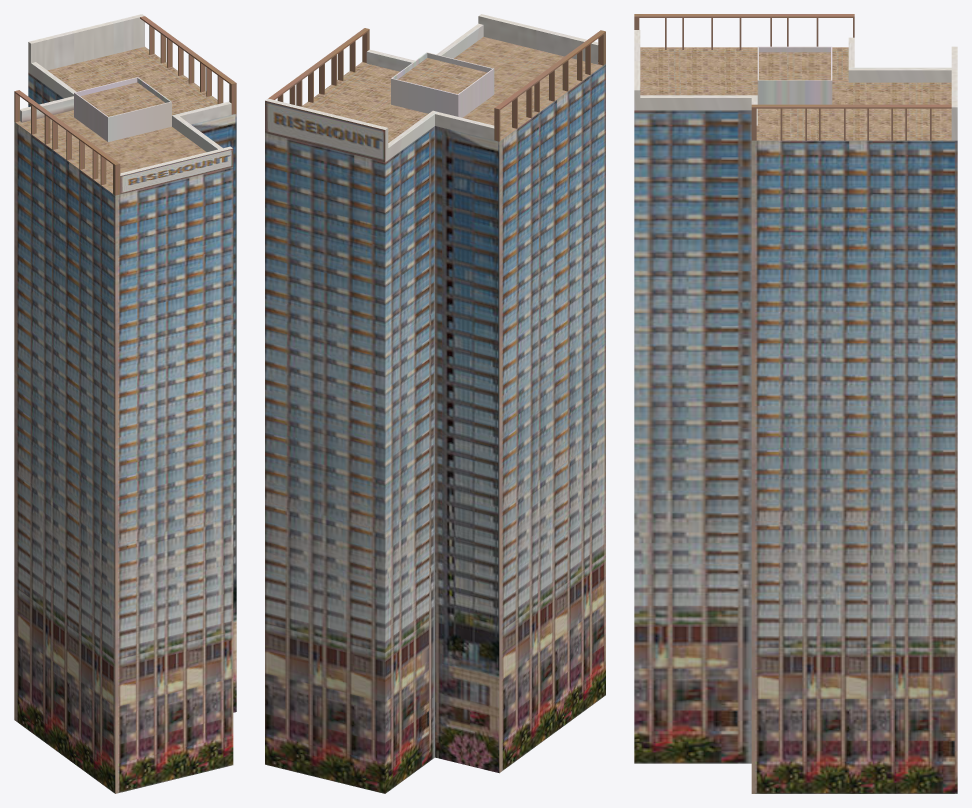
3 renders of one model, left to right at view 1: azimuth 30°, elevation 25°; view 2: azimuth 150°, elevation 25°; view 3: azimuth 270°, elevation 25°, orthographic. The views are drawn at different scales.
Visible parts, largest first — view 1: 5d8d94bf4fec9608785f63cb.001; view 2: 5d8d94bf4fec9608785f63cb.001; view 3: 5d8d94bf4fec9608785f63cb.001.
Boxes of the visible parts, left/top/right/bottom form: 5d8d94bf4fec9608785f63cb.001: left=14, top=14, right=236, bottom=793; 5d8d94bf4fec9608785f63cb.001: left=265, top=14, right=605, bottom=793; 5d8d94bf4fec9608785f63cb.001: left=634, top=14, right=957, bottom=793.
Size of the model in its own units: 35.33 by 121 by 51.79.
1 material, 1 textured.
